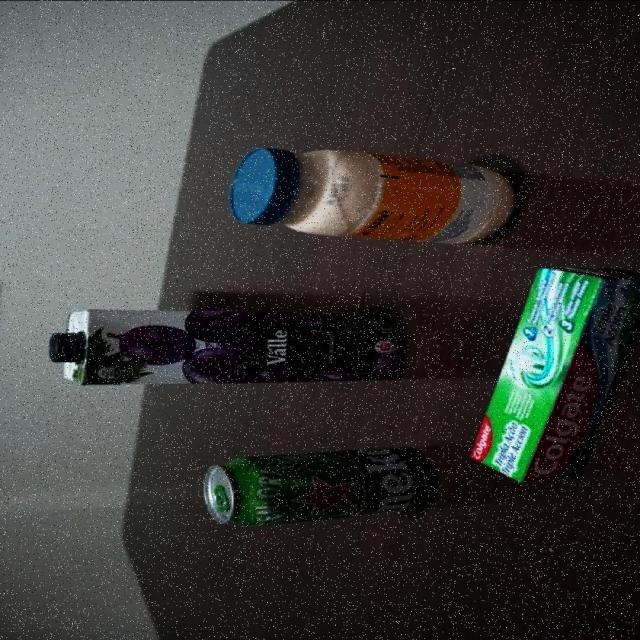BeerCan: (199, 446, 437, 530)
Mayonnaise: (227, 147, 518, 242)
Toothpaste: (467, 263, 640, 485)
